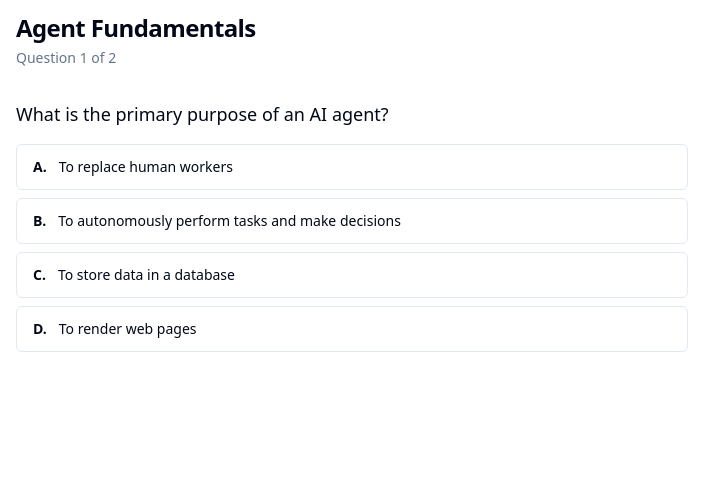
Test: QuizPage › marks correct option with success styling after clicking the right answer
Check: the text "What is the primary purpose of an AI agent?" is shown, box [16,102,389,126]
Note: When — click the correct answer (index 1 → button index 1)
Click the button "B. To autonomously perform tasks and make decisions" at (352, 221), box [16,198,688,244]
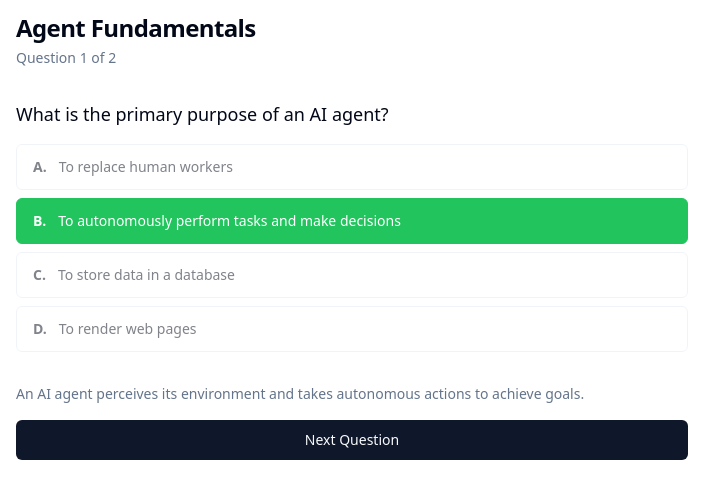
Check: the text "An AI agent perceives its environment and takes autonomous actions to achieve goals." is shown, box [16,384,584,403]
Check: the button "A. To replace human workers" is disabled, box [16,144,688,190]
